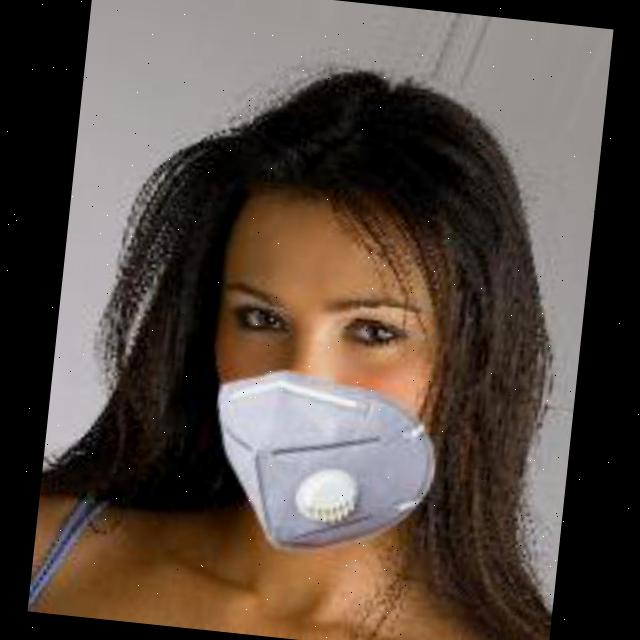suspicion: (171, 70, 522, 580)
